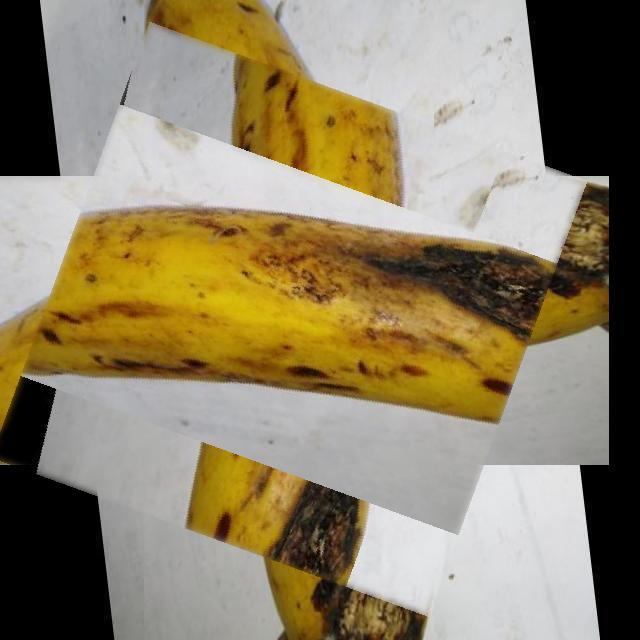Podre: (24, 55, 554, 585)
